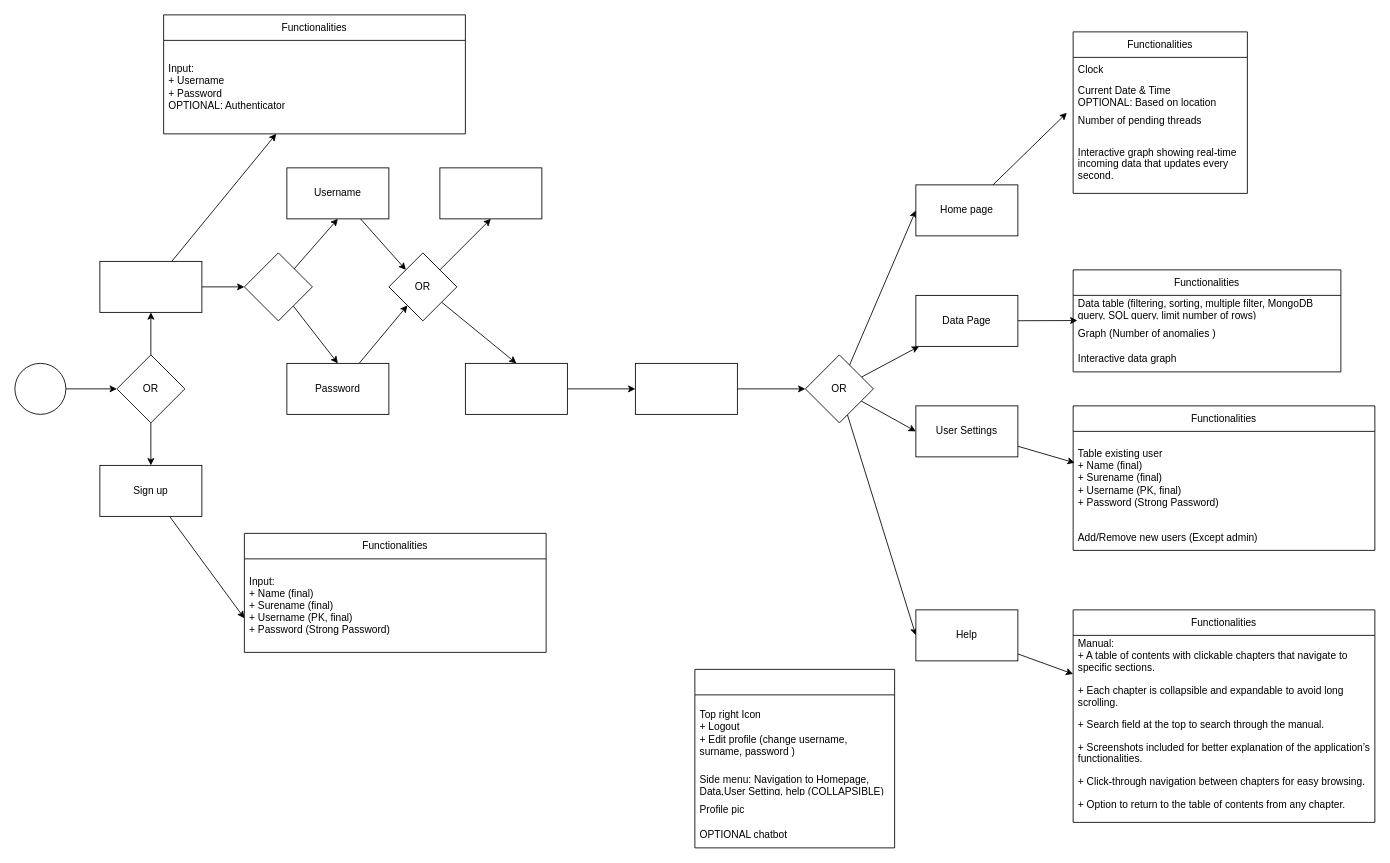
This 1390x863 diagram has some shape labels left out. The shapes that lost their labels are listed below. From the top down, each one's box as (x1, y1, x2, y2) in pixels, then its label:
(439, 167, 542, 219): Fail log in attemp (Max 4)
(99, 261, 202, 312): Login
(244, 252, 312, 321): AND
(14, 363, 66, 414): User
(465, 363, 567, 414): Success
(635, 363, 737, 414): Forward to HomePage
(694, 669, 895, 848): Common functionalities
